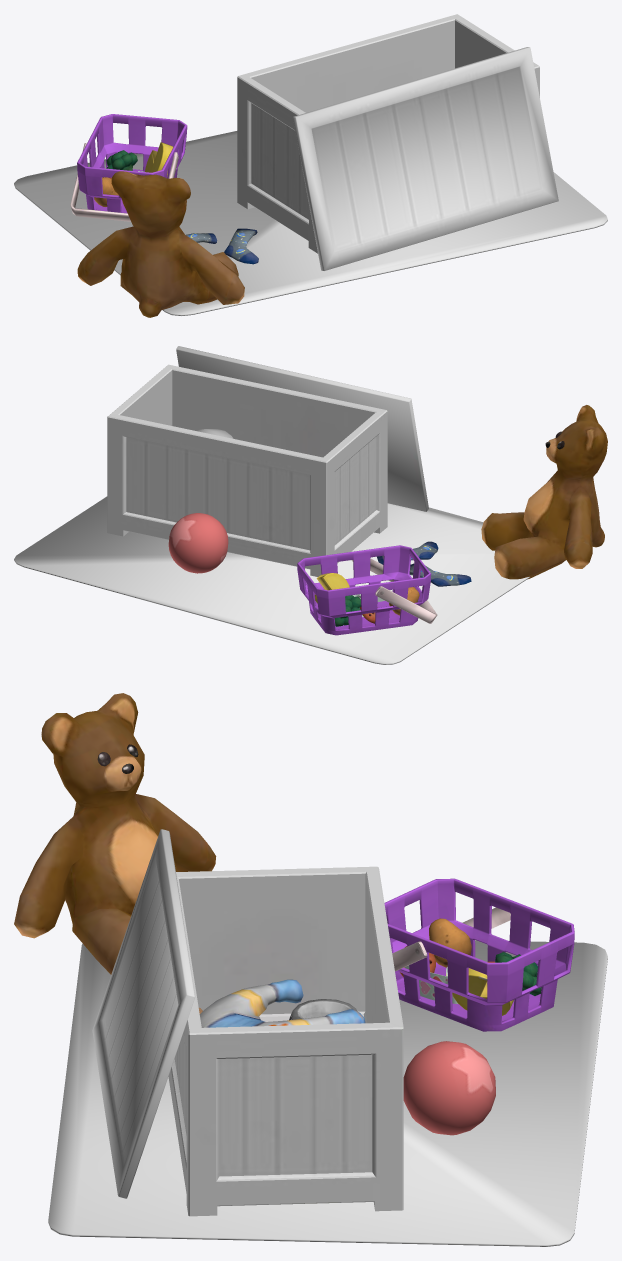
Rendered from Toy Box .fbx.
The picture shows the model from 3 angles, top to bottom: view 1: azimuth 30°, elevation 25°; view 2: azimuth 150°, elevation 25°; view 3: azimuth 270°, elevation 25°; orthographic projection. The views are drawn at different scales.
Parts seen in each view (by area): view 1: Box_Lid_Mat_Box_0, Rug_Mat_Rug_0, Box_Base_Mat_Box_0, Bear_Mat_Toys_0, Basket1_Mat_Box_0, Basket_Handle_Mat_Box_0, Sock_Mat_Toys_0, Cheese_Mat_Toys_0, Broccoli_Mat_Toys_0; view 2: Box_Base_Mat_Box_0, Rug_Mat_Rug_0, Bear_Mat_Toys_0, Box_Lid_Mat_Box_0, Basket1_Mat_Box_0, Ball1_Mat_Toys_0, Basket_Handle_Mat_Box_0, Sock1_Mat_Toys_0, Cheese_Mat_Toys_0; view 3: Box_Base_Mat_Box_0, Rug_Mat_Rug_0, Bear_Mat_Toys_0, Box_Lid_Mat_Box_0, Basket1_Mat_Box_0, Ball1_Mat_Toys_0, SpaceDogRetop_Mat_Toys_0, Potato_Mat_Toys_0, Basket_Handle_Mat_Box_0, DogBowl_Mat_Toys_0, Cheese_Mat_Toys_0.
Part boxes in pixels (left/top/right/bottom): Box_Lid_Mat_Box_0: left=293, top=47, right=558, bottom=270; Rug_Mat_Rug_0: left=14, top=131, right=607, bottom=315; Box_Base_Mat_Box_0: left=237, top=14, right=539, bottom=253; Bear_Mat_Toys_0: left=77, top=171, right=244, bottom=317; Basket1_Mat_Box_0: left=77, top=114, right=187, bottom=213; Basket_Handle_Mat_Box_0: left=70, top=143, right=178, bottom=221; Sock_Mat_Toys_0: left=224, top=228, right=258, bottom=264; Cheese_Mat_Toys_0: left=145, top=142, right=173, bottom=176; Broccoli_Mat_Toys_0: left=106, top=150, right=137, bottom=170; Box_Base_Mat_Box_0: left=107, top=364, right=387, bottom=576; Rug_Mat_Rug_0: left=14, top=496, right=529, bottom=664; Bear_Mat_Toys_0: left=481, top=405, right=607, bottom=579; Box_Lid_Mat_Box_0: left=176, top=346, right=428, bottom=511; Basket1_Mat_Box_0: left=297, top=545, right=431, bottom=635; Ball1_Mat_Toys_0: left=168, top=513, right=228, bottom=573; Basket_Handle_Mat_Box_0: left=351, top=558, right=437, bottom=623; Sock1_Mat_Toys_0: left=409, top=563, right=471, bottom=586; Cheese_Mat_Toys_0: left=314, top=573, right=349, bottom=603; Box_Base_Mat_Box_0: left=168, top=866, right=403, bottom=1216; Rug_Mat_Rug_0: left=48, top=940, right=607, bottom=1246; Bear_Mat_Toys_0: left=14, top=693, right=216, bottom=974; Box_Lid_Mat_Box_0: left=92, top=829, right=195, bottom=1198; Basket1_Mat_Box_0: left=384, top=878, right=574, bottom=1031; Ball1_Mat_Toys_0: left=403, top=1041, right=495, bottom=1135; SpaceDogRetop_Mat_Toys_0: left=198, top=979, right=365, bottom=1027; Potato_Mat_Toys_0: left=429, top=918, right=471, bottom=967; Basket_Handle_Mat_Box_0: left=392, top=900, right=513, bottom=971; DogBowl_Mat_Toys_0: left=289, top=999, right=356, bottom=1020; Cheese_Mat_Toys_0: left=452, top=968, right=513, bottom=1015.
Bounding box in the file's own units: 20.73 × 6.19 × 14.79.
Materials: 3 (2 with a texture image).
